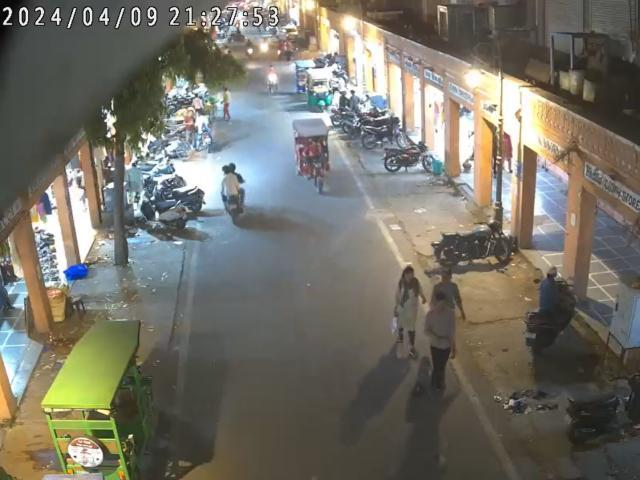auto: (41, 322, 156, 480), (292, 118, 331, 186)
motorbike: (434, 221, 512, 265), (383, 139, 434, 173), (360, 122, 410, 147)
motorbike-rider: (222, 162, 246, 221)
person: (424, 299, 458, 392), (392, 262, 420, 347)
scooty: (567, 364, 640, 439), (522, 264, 578, 347), (132, 182, 188, 233), (156, 173, 208, 214)
